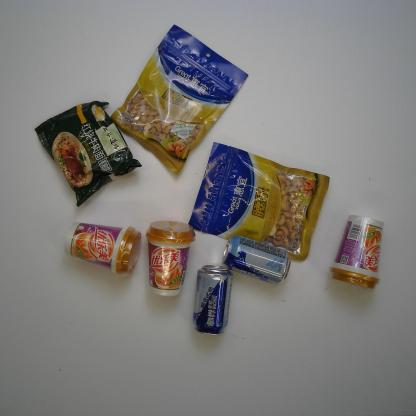Alcohol: (218, 232, 294, 288), (190, 262, 234, 338)
Dried Fruit: (107, 22, 252, 177), (187, 142, 331, 264)
Instant Drink: (325, 211, 387, 292), (63, 219, 144, 279), (144, 216, 196, 298)
Instant Noodles: (34, 99, 142, 210)
